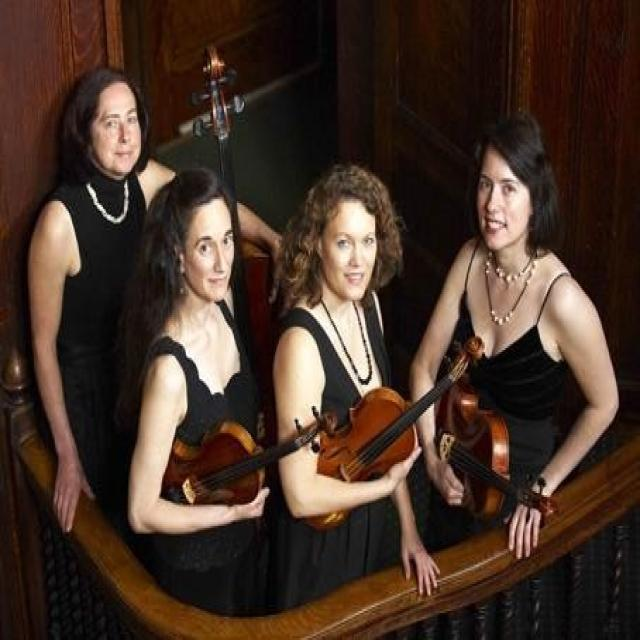violin: (300, 330, 485, 526), (423, 370, 562, 526), (158, 407, 339, 508)
